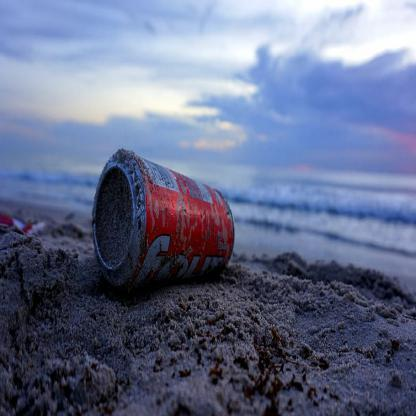can: (92, 148, 235, 277)
